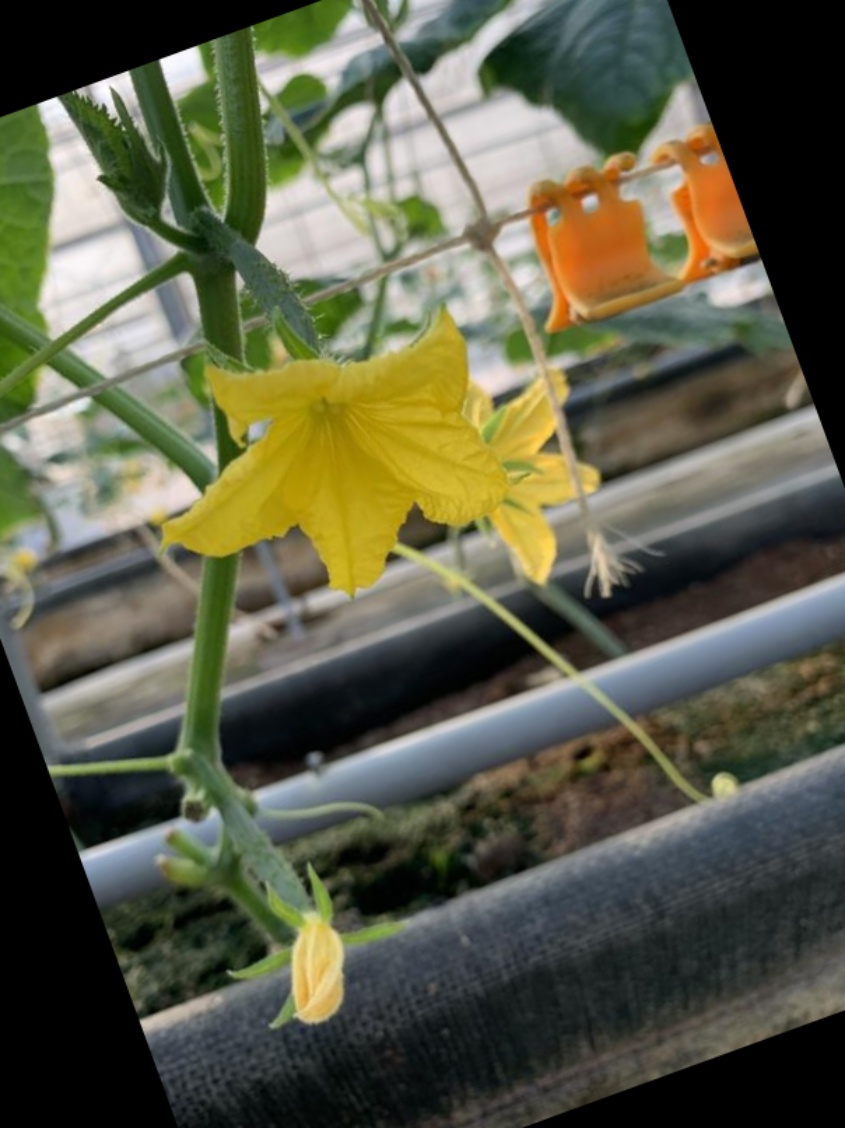flowering: (76, 228, 508, 606)
